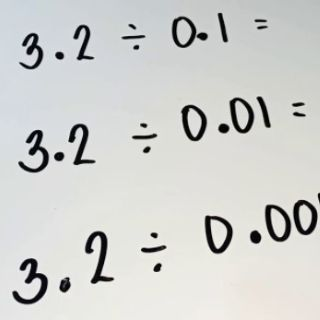.: (216, 119, 231, 137), (248, 227, 262, 245), (58, 275, 71, 293), (52, 49, 66, 62), (52, 149, 66, 162), (197, 29, 208, 42)
0: (202, 212, 233, 254), (178, 103, 208, 143), (227, 94, 255, 135), (263, 203, 292, 242), (292, 199, 318, 236), (170, 14, 197, 49)
1: (255, 93, 275, 129), (215, 8, 230, 44)
2: (84, 230, 116, 284), (66, 120, 99, 168), (72, 23, 98, 62)
3: (12, 257, 48, 305), (16, 129, 50, 173), (16, 31, 44, 70)
